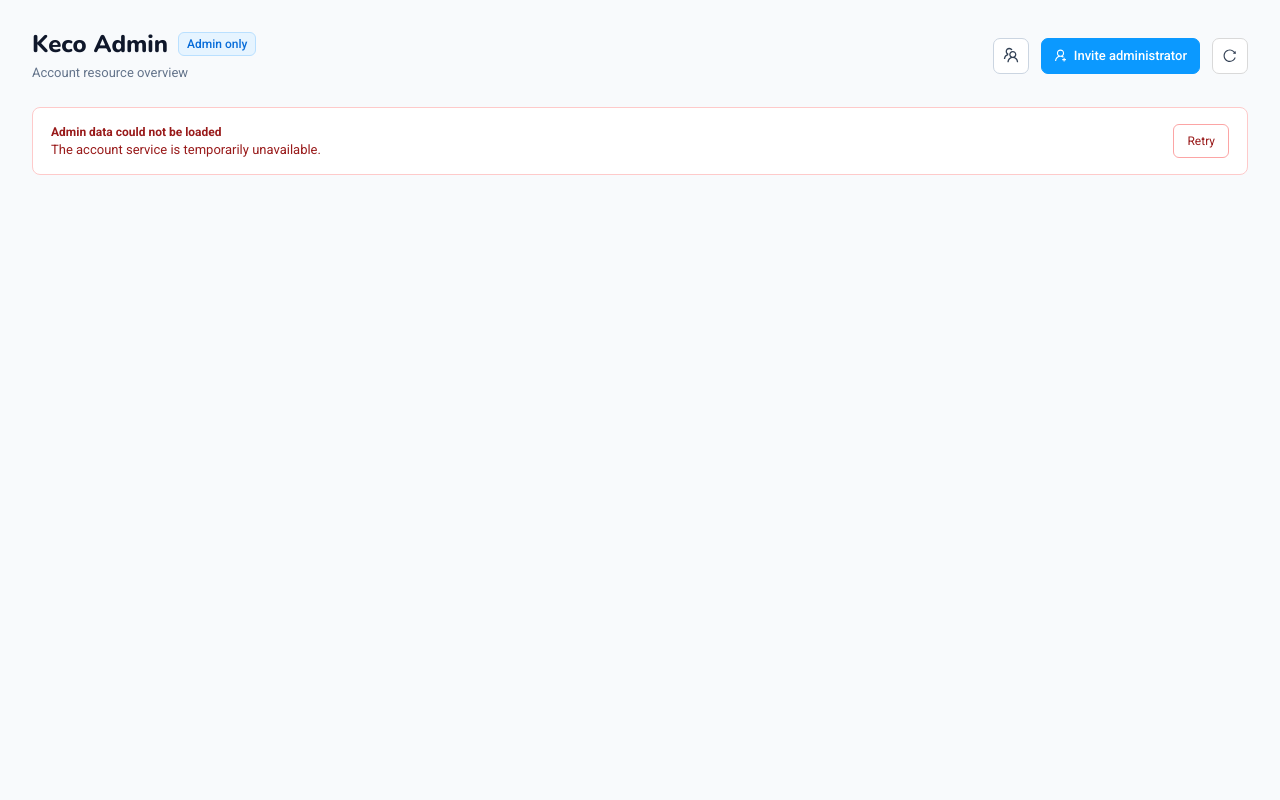
Scenario: Keco Admin dashboard › shows a first-load error and retries on command
The width and height of the screenshot is (1280, 800).
Expected: the text "Admin data could not be loaded" is shown, [51,125,222,139]
What coordinates should you click on to do the following:
click the button "Retry"
I would click on:
 (1201, 141)
Its box is [1174,124,1229,158].
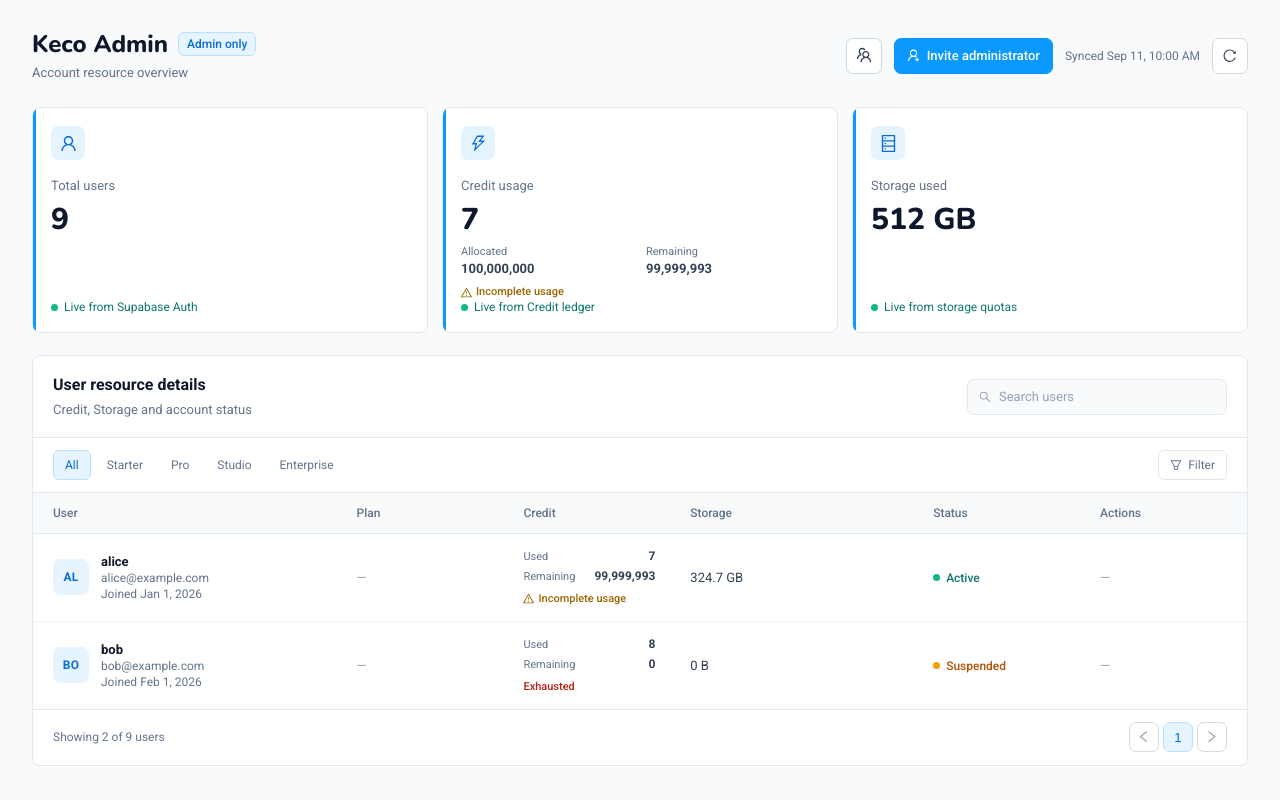
Expected: the text with test id "keco-admin-total-users" reads "9", [51,199,69,240]
